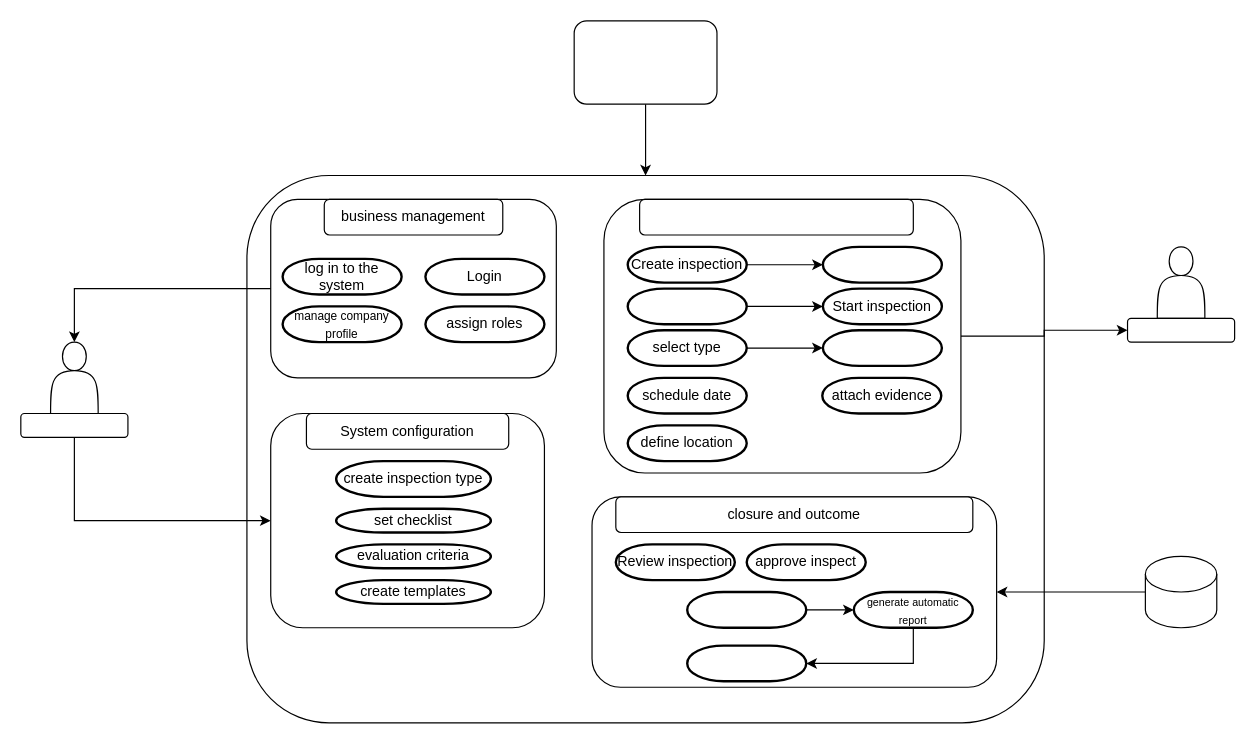
Image size: 1255x744. Some labels were removed from this diagram. Here are the shapes that lost their labels. From the top down, the centre of each, then its label:
At [645,62]: "Company".
At [775,216]: "Inspection planning".
At [881,264]: "view assigned inspection".
At [686,306]: "assign technician".
At [881,347]: "complete checklist".
At [1180,329]: "technical".
At [74,424]: "company administrator".
At [746,609]: "refuse to inspect".
At [1180,591]: "system".
At [746,663]: "download report".
